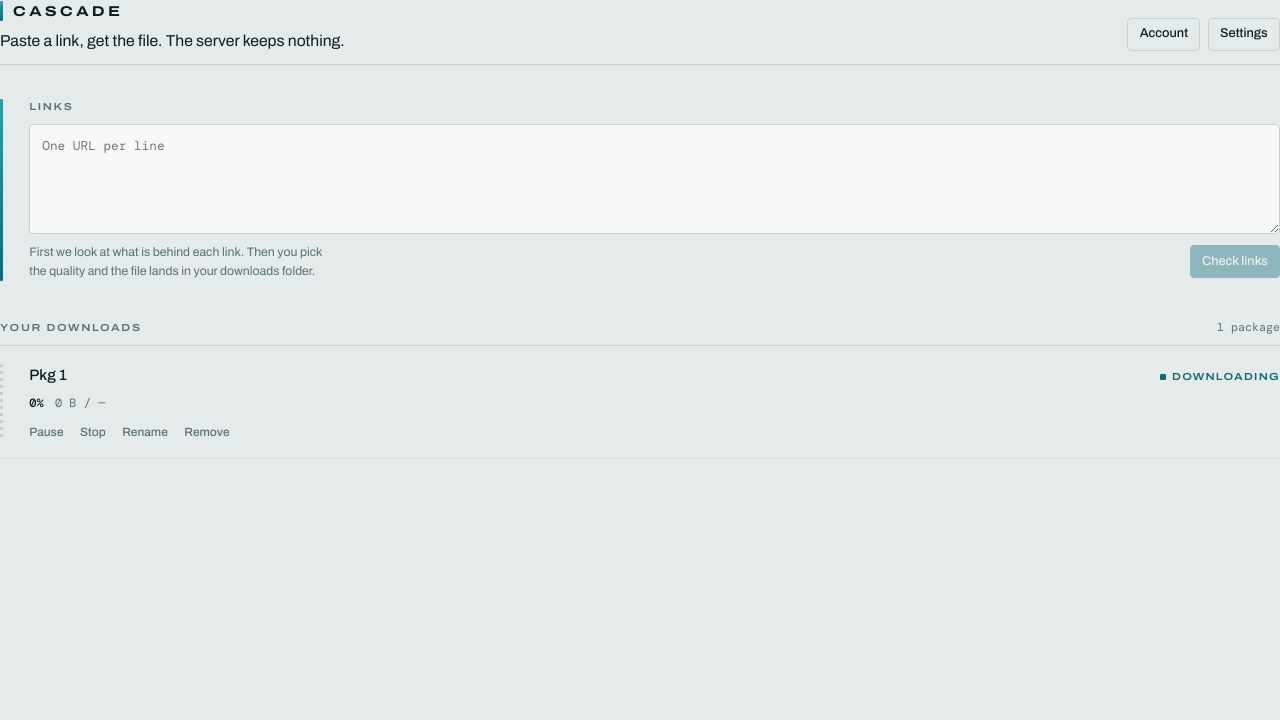
Test: backing out of the delete dialog deletes nothing
The width and height of the screenshot is (1280, 720).
Click the button "Remove" at (207, 432), box [184, 423, 230, 441]
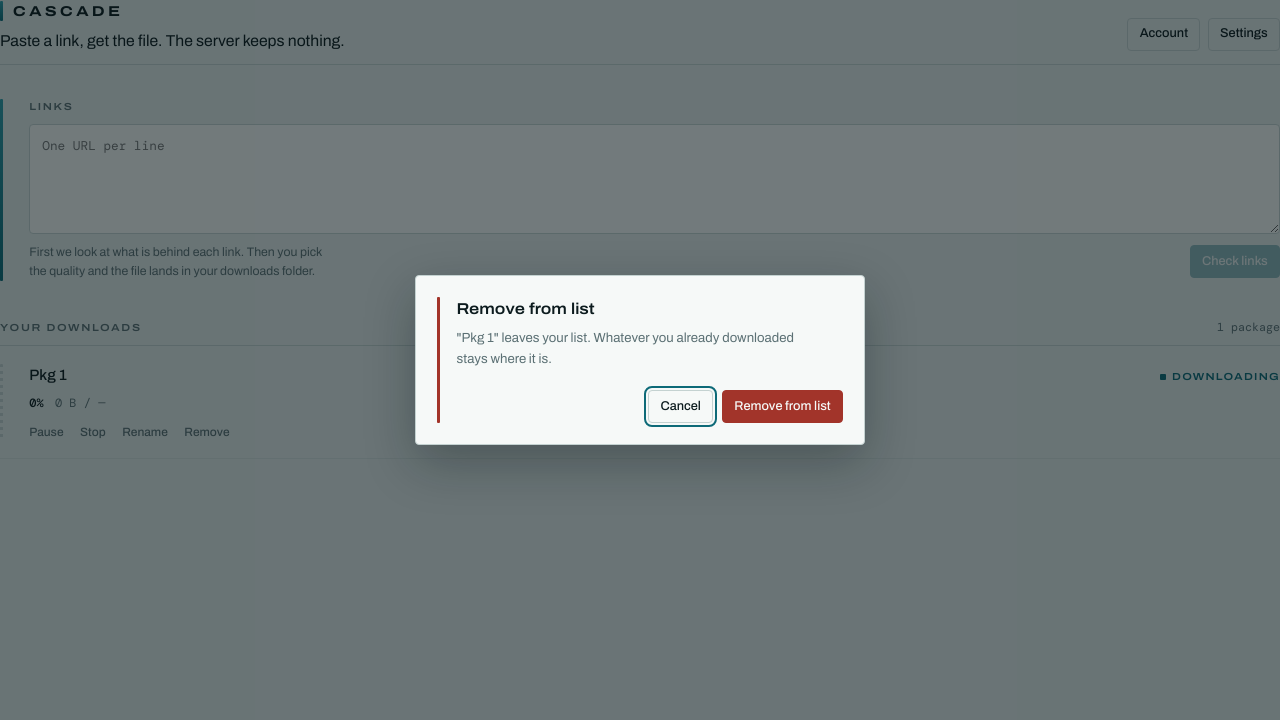
Press Escape in the dialog, box [415, 274, 865, 445]
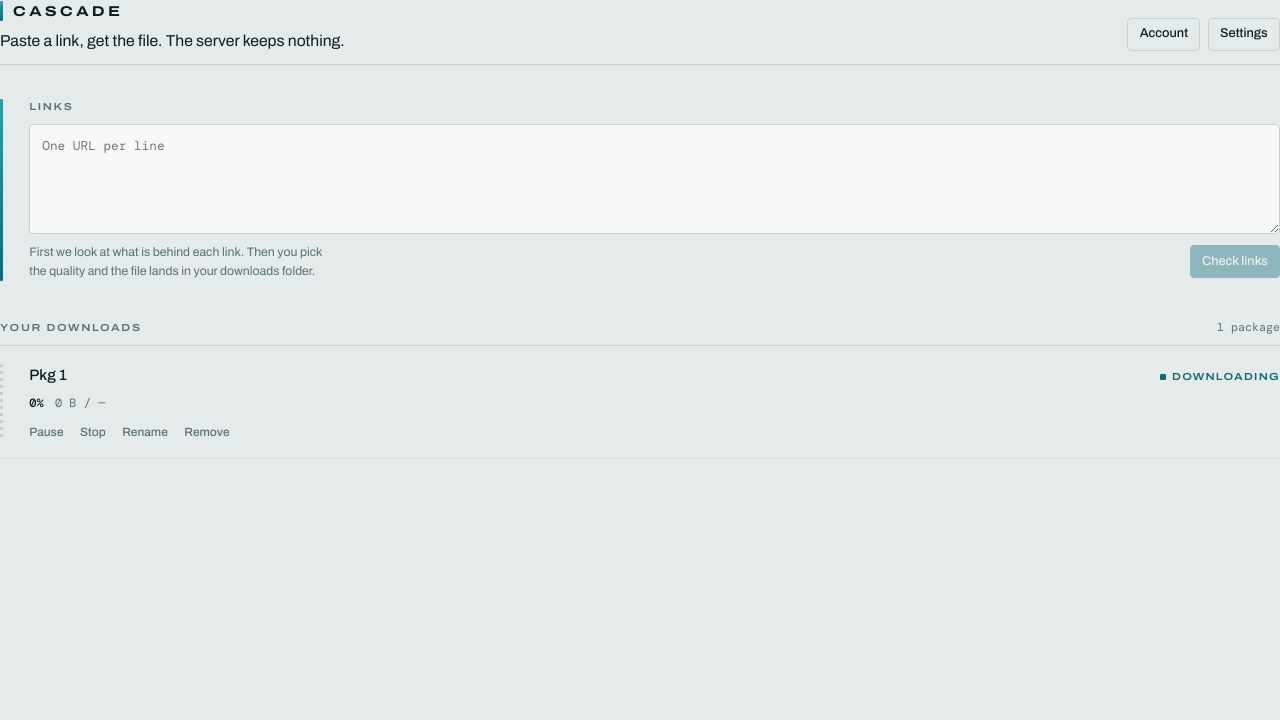
Result: the dialog is gone
